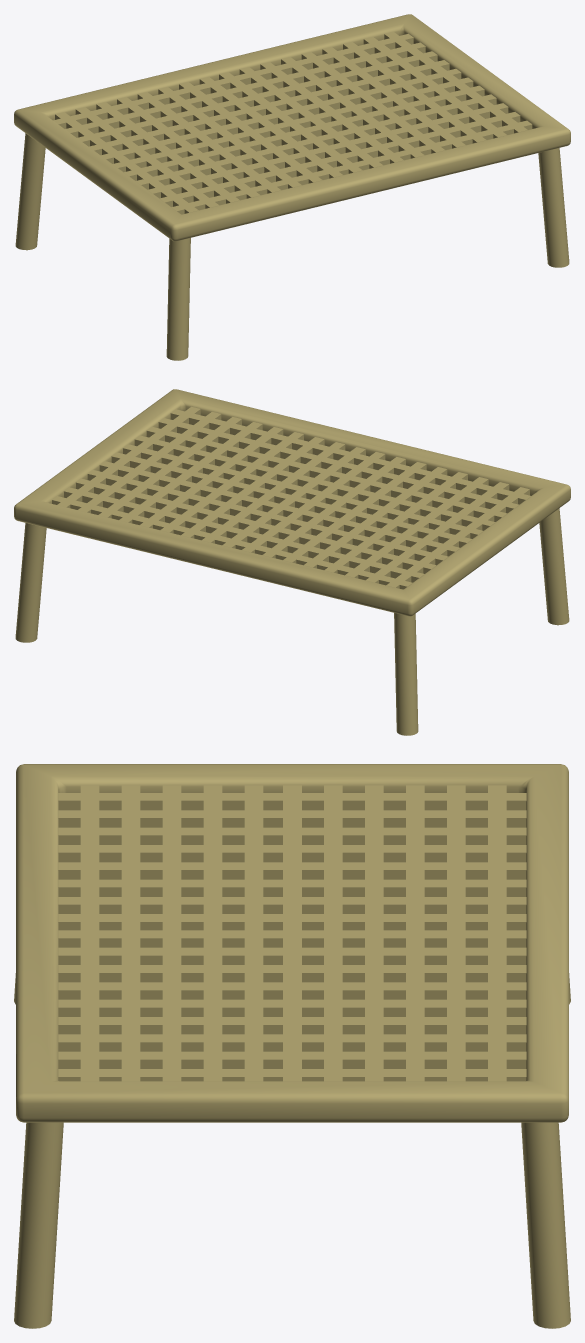
Rendered from Table.fbx.
3 renders of one model, top to bottom at view 1: azimuth 30°, elevation 25°; view 2: azimuth 150°, elevation 25°; view 3: azimuth 270°, elevation 25°, orthographic. The views are drawn at different scales.
Parts seen in each view (by area): view 1: Table, Table.001, Table.002, Table.003; view 2: Table, Table.003, Table.004, Table.001; view 3: Table, Table.002, Table.004.
Boxes of the visible parts, x1=… form: Table: x1=14, y1=14, x2=570, y2=241; Table.001: x1=166, y1=238, x2=190, y2=360; Table.002: x1=538, y1=148, x2=569, y2=267; Table.003: x1=15, y1=133, x2=45, y2=250; Table: x1=14, y1=389, x2=570, y2=616; Table.003: x1=394, y1=613, x2=418, y2=735; Table.004: x1=15, y1=523, x2=46, y2=642; Table.001: x1=539, y1=508, x2=569, y2=625; Table: x1=16, y1=764, x2=568, y2=1122; Table.002: x1=14, y1=1122, x2=63, y2=1328; Table.004: x1=521, y1=1122, x2=570, y2=1328.
Bounding box in the file's own units: 318 × 103 × 223.
